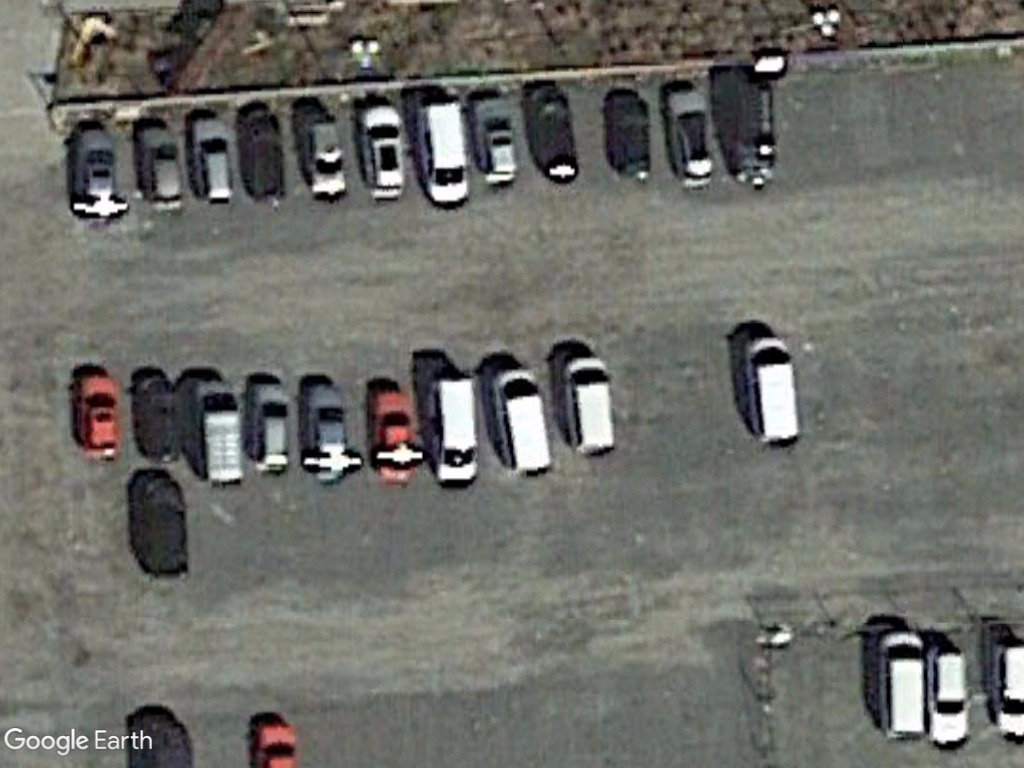car: (923, 641, 973, 751), (138, 122, 188, 215), (189, 115, 238, 209)
van: (488, 365, 555, 481), (738, 332, 805, 447), (411, 99, 473, 210), (426, 372, 484, 490), (193, 377, 249, 490), (559, 351, 618, 457), (874, 628, 927, 742)
